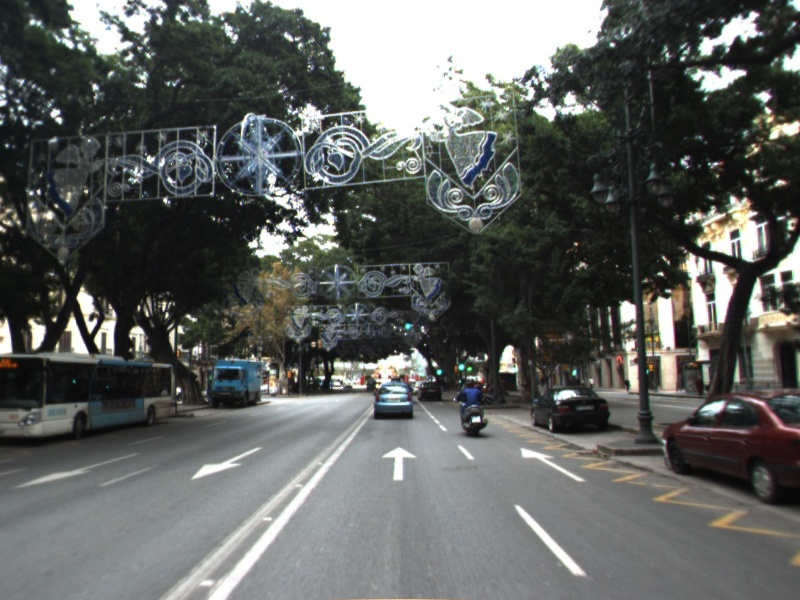STRAIGHT: (519, 446, 589, 484), (379, 445, 419, 483)
